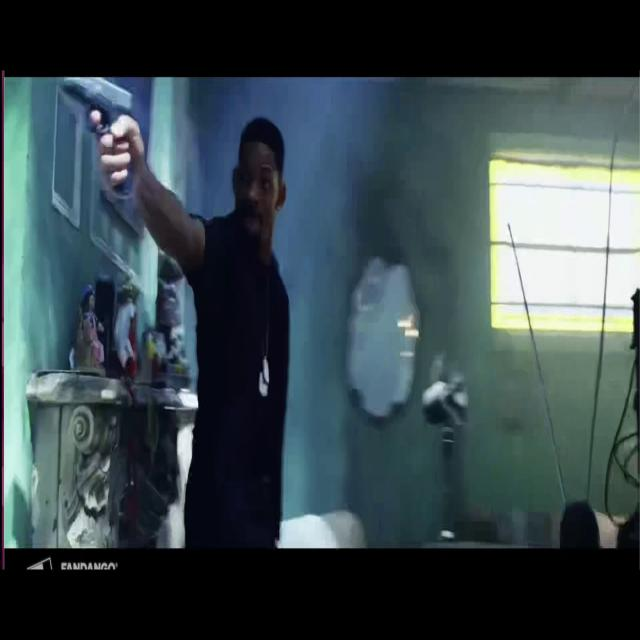weapons: (67, 82, 145, 203)
